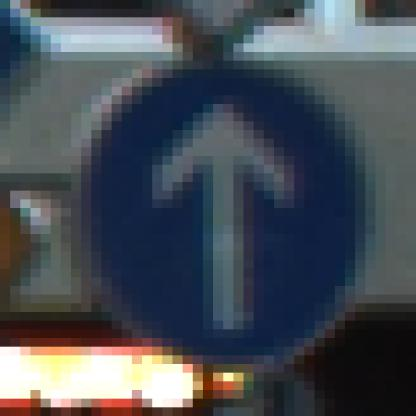AheadOnly: (52, 44, 366, 374)
